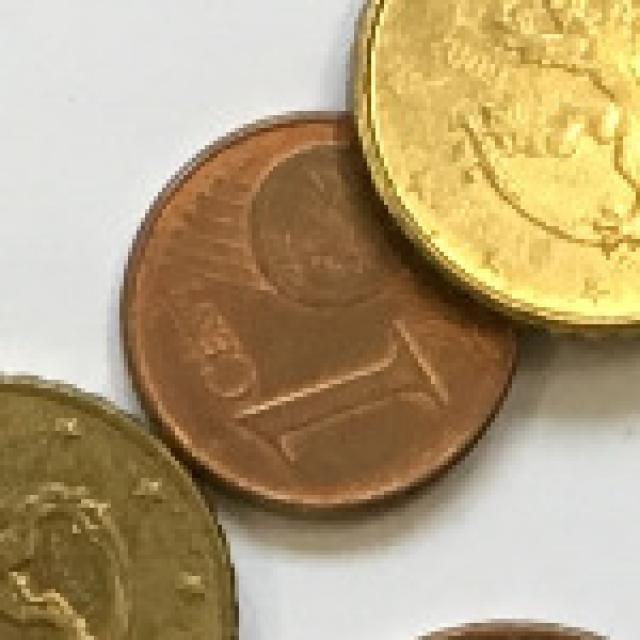1c: (106, 85, 554, 542)
